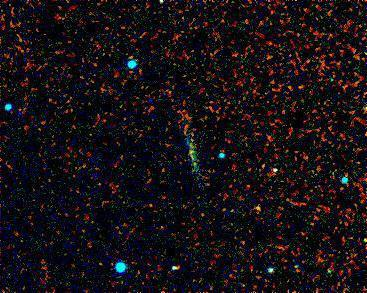star: (237, 196, 267, 226)
